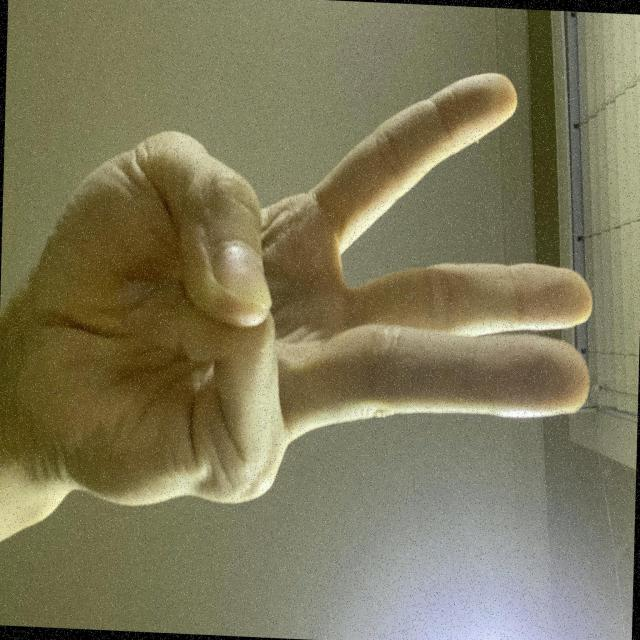W: (189, 41, 566, 640)
